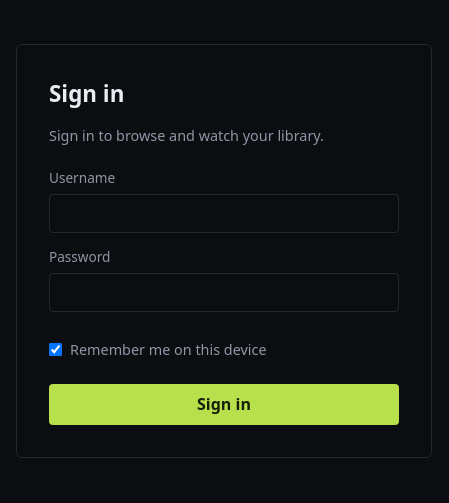
Test: LoginScreen › shows the one refusal sentence for a refusal
In the field with test id "login-username": (224, 213) 49,194 -> 399,233, type "nobody"
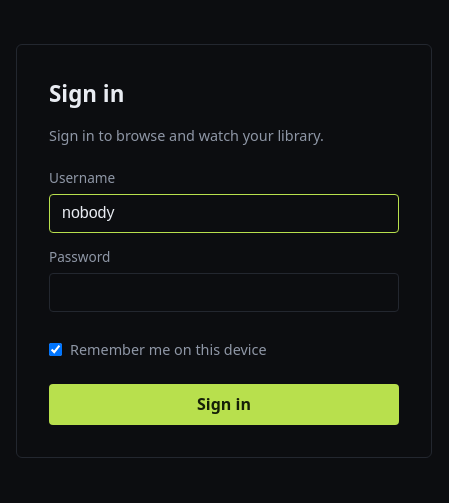
In the password field with test id "login-password": (224, 293) 49,273 -> 399,312, type "whatever"
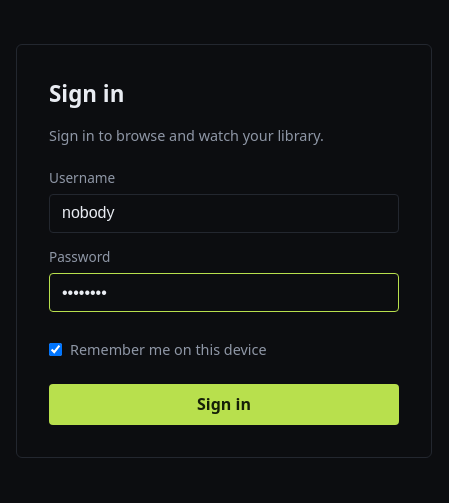
Click the button with test id "login-submit": (224, 404) 49,384 -> 399,425
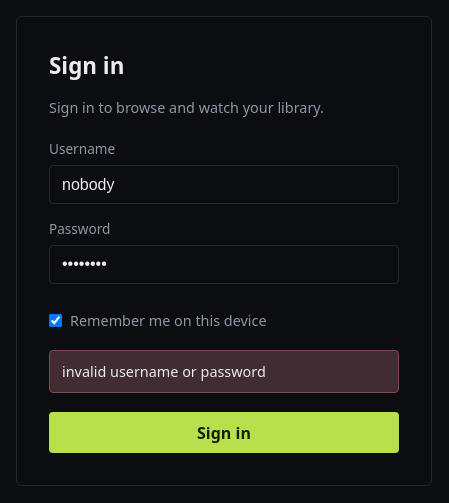
Result: the message with test id "login-error" reads "invalid username or password" at 62,362 -> 266,381
